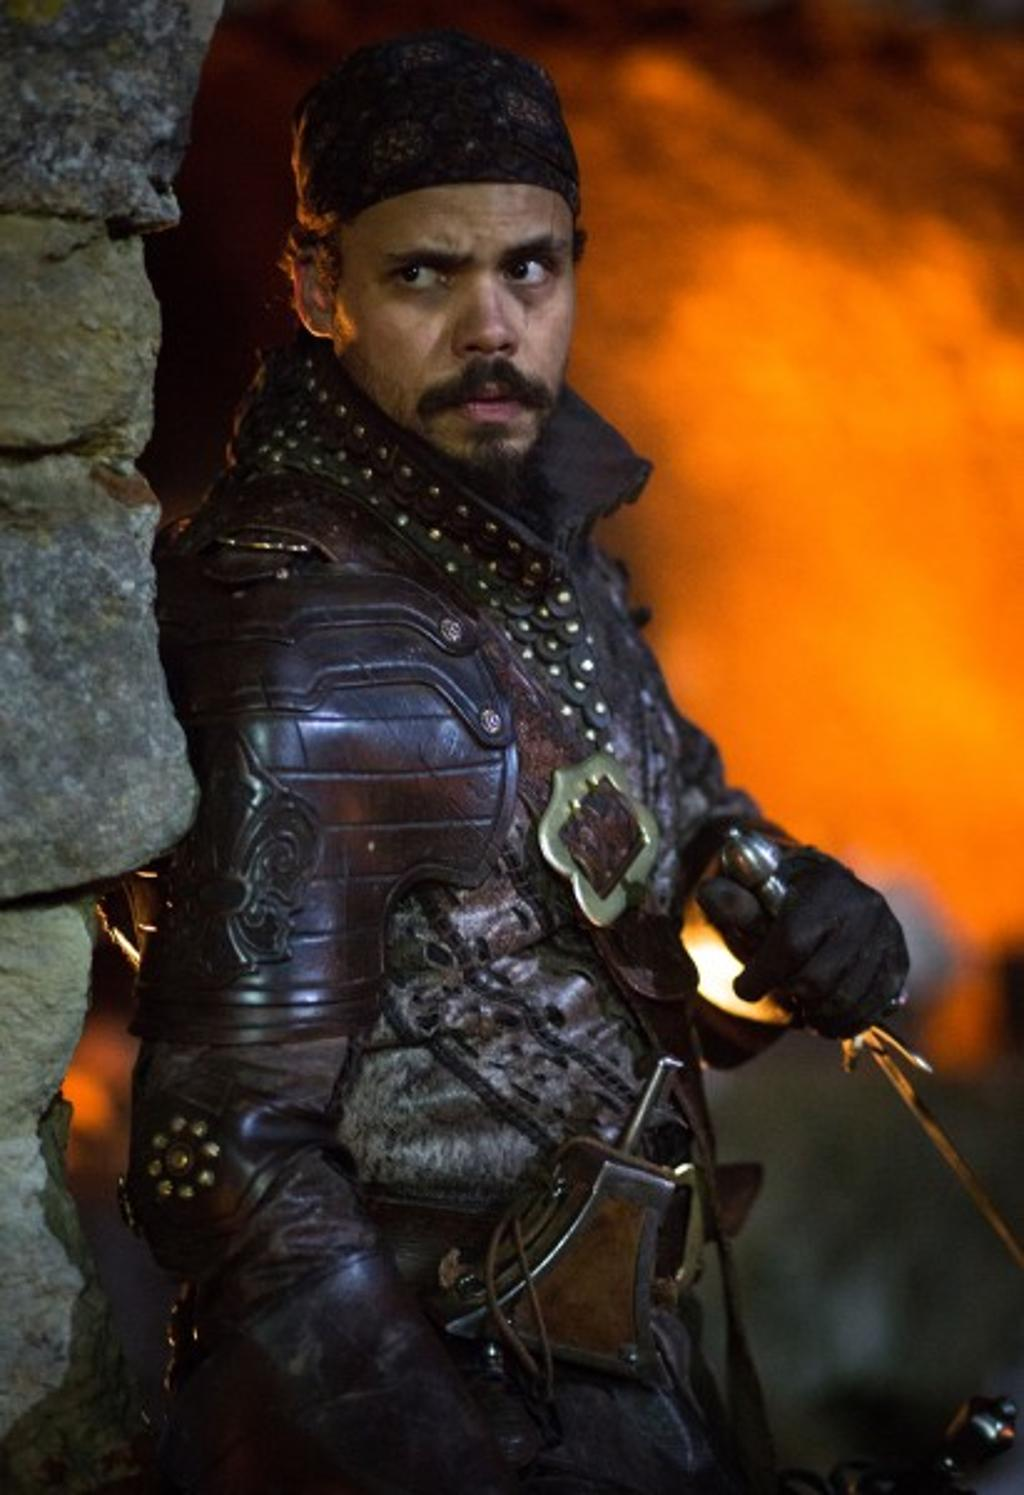face: (359, 169, 578, 461)
